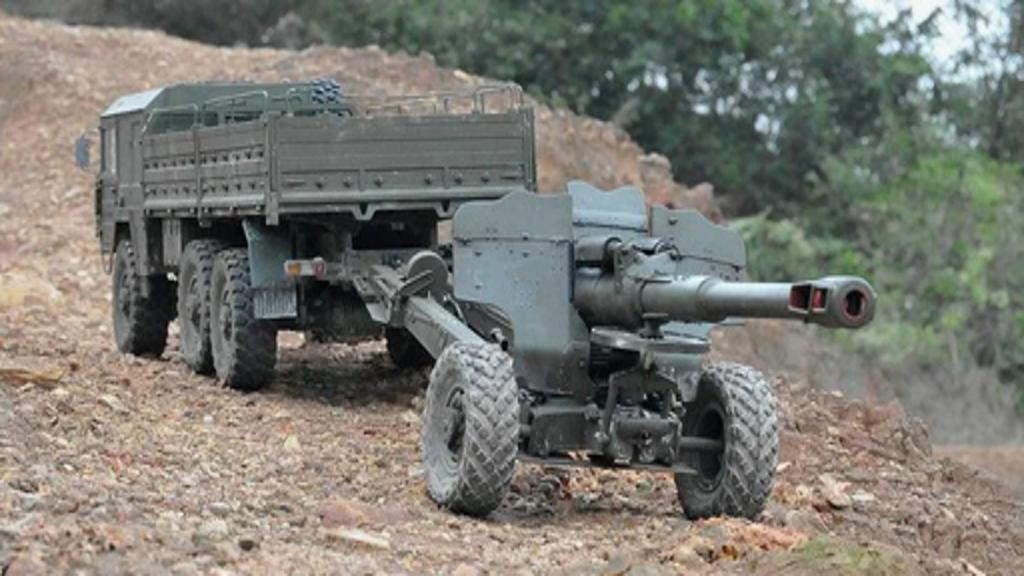ART: (408, 174, 882, 518)
TRUCK: (82, 74, 538, 386)
